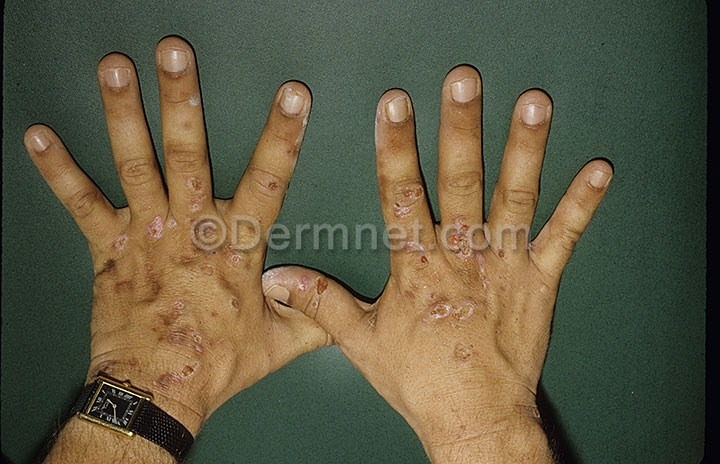Melasma: (95, 250, 334, 383), (402, 254, 524, 362), (369, 164, 428, 218), (143, 198, 186, 258), (183, 165, 212, 212), (107, 222, 128, 260), (272, 143, 305, 161), (260, 175, 285, 195)
